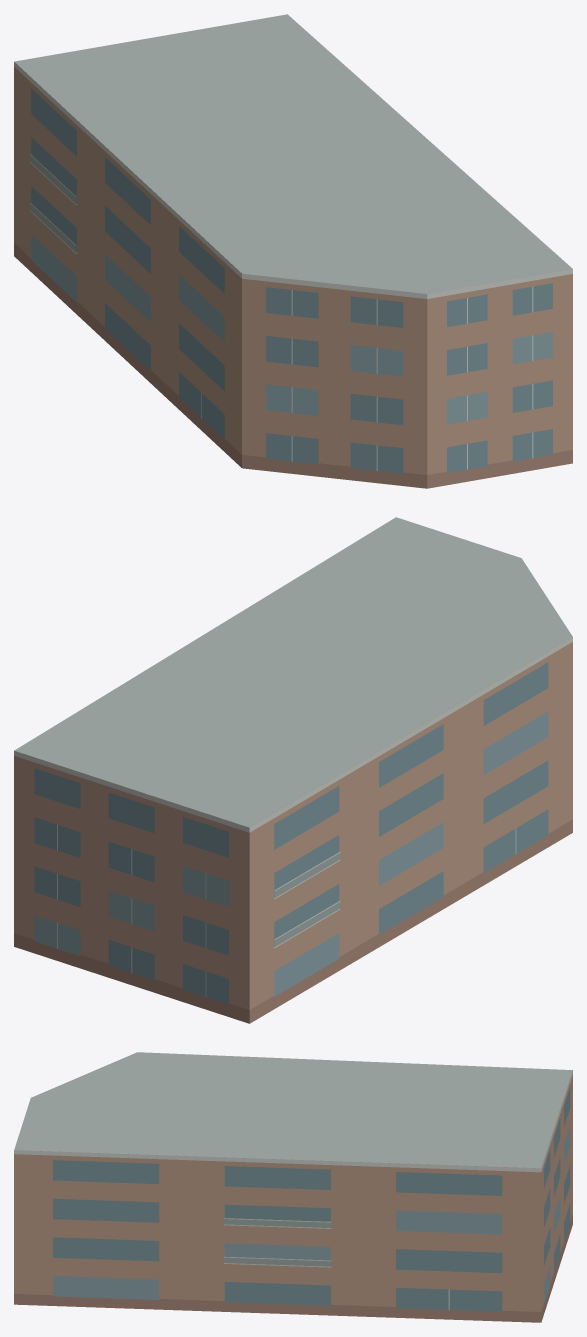
File: survey-upis-32750004.glb
The picture shows the model from 3 angles, top to bottom: view 1: azimuth 30°, elevation 25°; view 2: azimuth 150°, elevation 25°; view 3: azimuth 270°, elevation 25°; orthographic projection. The views are drawn at different scales.
Parts seen in each view (by area): view 1: survey-upis-32750004.tmp; view 2: survey-upis-32750004.tmp; view 3: survey-upis-32750004.tmp.
Boxes of the visible parts, bbox=[...] form: survey-upis-32750004.tmp: bbox=[14, 14, 572, 488]; survey-upis-32750004.tmp: bbox=[14, 517, 572, 1023]; survey-upis-32750004.tmp: bbox=[14, 1052, 572, 1322].
Size of the model in its own units: 15.17 by 9.4 by 30.84.
